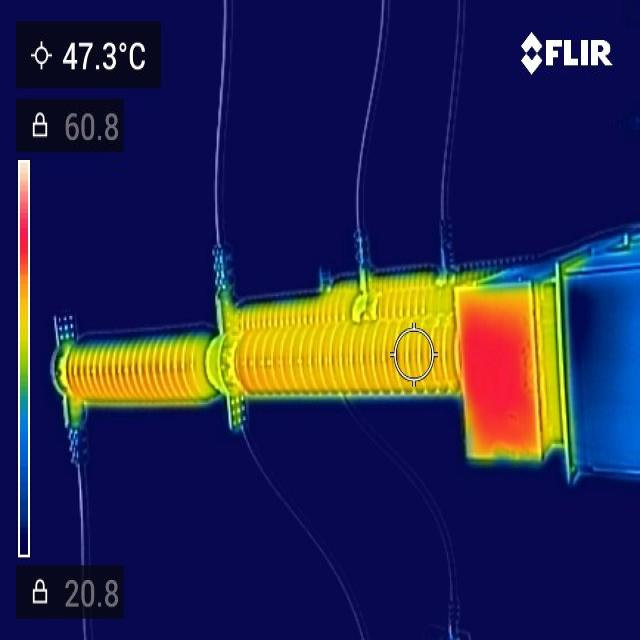Zona_Critica: (461, 307, 528, 442)
